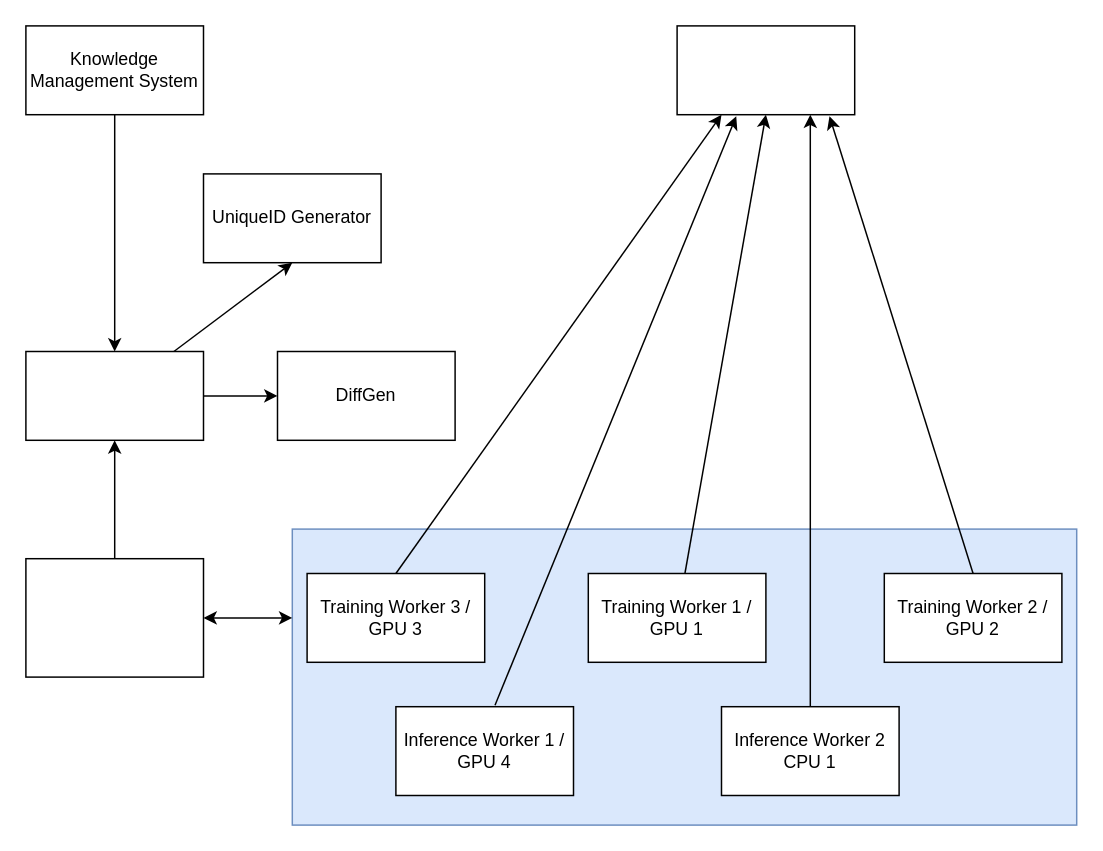
Some shapes in this 1103 by 851 pixel diagram are drawn without their labels. Here are the shapes that lost their labels. From the top down, the centre of each, then its label:
At (x=765, y=69): "Workflow Queues".
At (x=114, y=395): "Data Versioning System".
At (x=114, y=617): "ML Model System".
